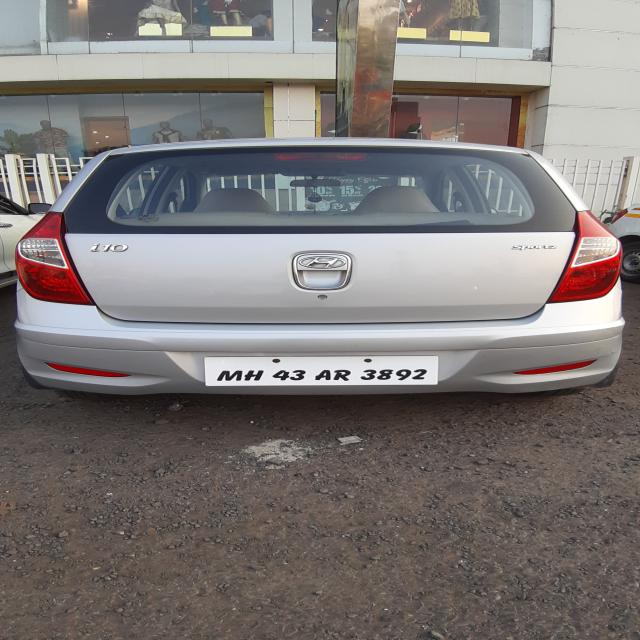Number-Plate: (206, 358, 436, 381)
